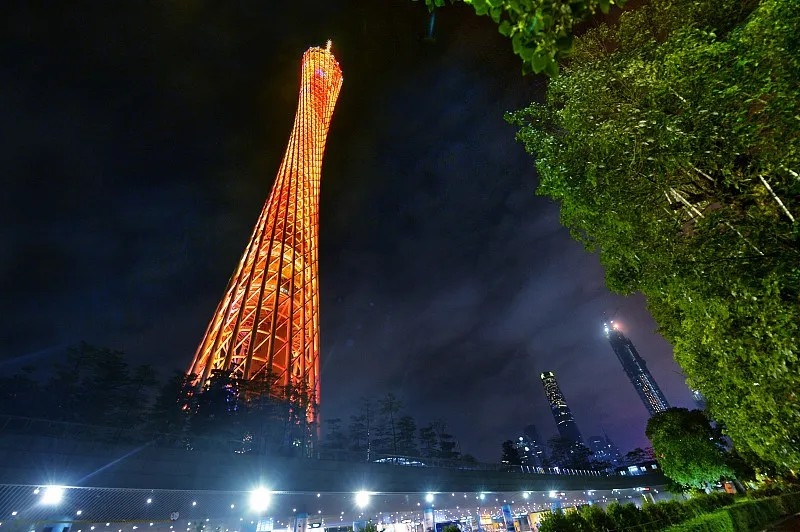Canton: (173, 35, 346, 451)
